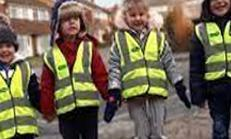Vest: (43, 44, 100, 112), (114, 31, 169, 99), (0, 64, 43, 135), (194, 18, 231, 83)
